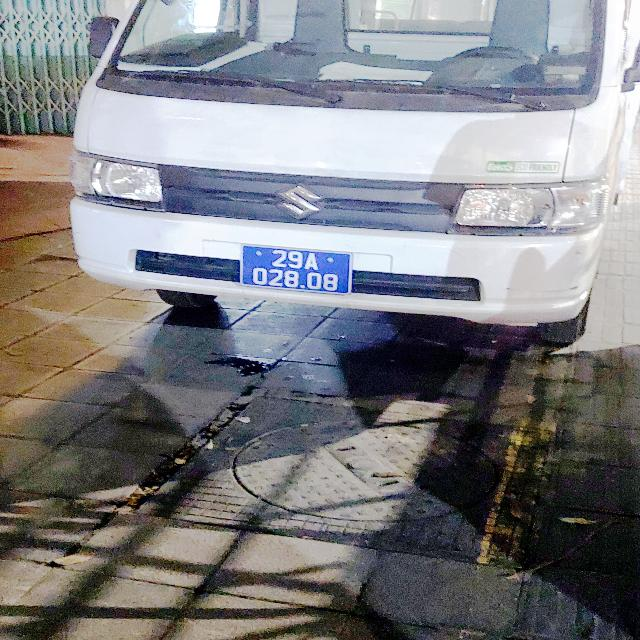license_plate: (243, 244, 353, 296)
